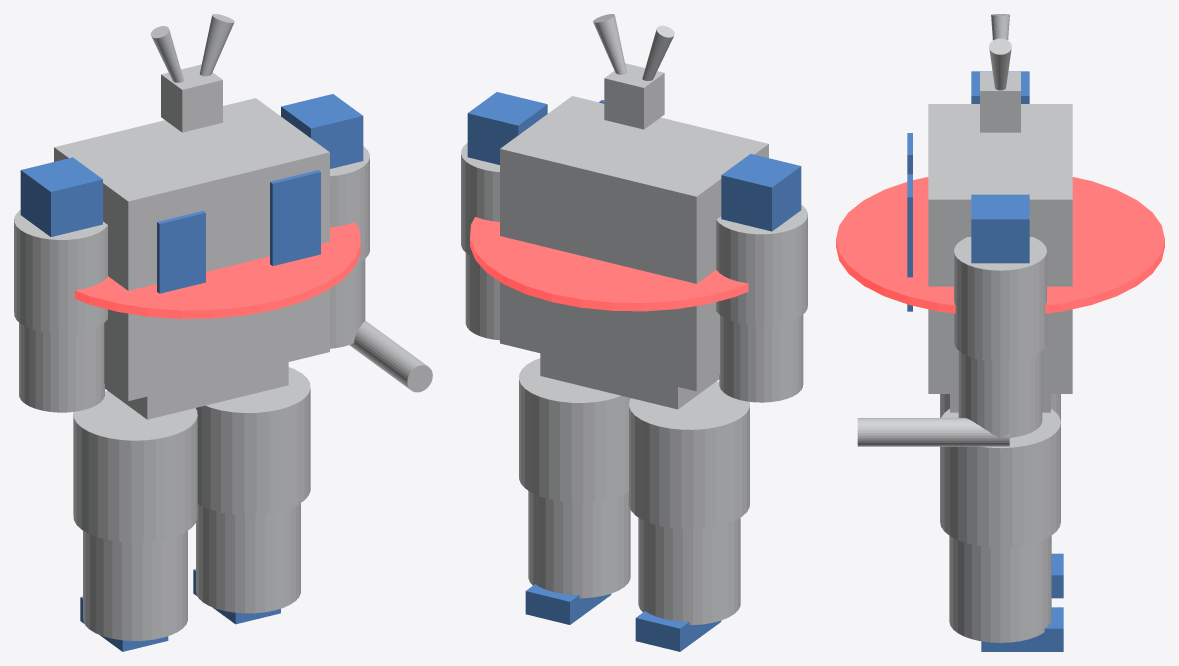
Rendered from traits1.glb.
3 renders of one model, left to right at view 1: azimuth 30°, elevation 25°; view 2: azimuth 150°, elevation 25°; view 3: azimuth 270°, elevation 25°, orthographic. The views are drawn at different scales.
Parts seen in each view (by area): view 1: GundarFrame_42_torso, GundarFrame_42_thigh_L, GundarFrame_42_thigh_R, GundarFrame_42_transam_aura, GundarFrame_42_shin_L, GundarFrame_42_shin_R, GundarFrame_42_upperarm_L, GundarFrame_42_forearm_L, GundarFrame_42, GundarFrame_42_shoulder_L, GundarFrame_42_pelvis, GundarFrame_42_shoulder_R (+6 smaller); view 2: GundarFrame_42_torso, GundarFrame_42_thigh_L, GundarFrame_42_thigh_R, GundarFrame_42_transam_aura, GundarFrame_42_shin_L, GundarFrame_42_shin_R, GundarFrame_42_upperarm_L, GundarFrame_42_forearm_L, GundarFrame_42_shoulder_L, GundarFrame_42_pelvis, GundarFrame_42_shoulder_R, GundarFrame_42_head (+6 smaller); view 3: GundarFrame_42_torso, GundarFrame_42_transam_aura, GundarFrame_42_thigh_R, GundarFrame_42_shin_R, GundarFrame_42_upperarm_R, GundarFrame_42_forearm_R, GundarFrame_42_shoulder_R, GundarFrame_42_weapon, GundarFrame_42_head, GundarFrame_42, GundarFrame_42_foot_R, GundarFrame_42_shoulder_L (+1 smaller).
Boxes of the visible parts, x1,y1,x2,y2 form: GundarFrame_42_torso: (54,98,329,401); GundarFrame_42_thigh_L: (73,391,197,542); GundarFrame_42_thigh_R: (196,367,310,515); GundarFrame_42_transam_aura: (75,222,360,318); GundarFrame_42_shin_L: (83,530,187,640); GundarFrame_42_shin_R: (196,503,300,613); GundarFrame_42_upperarm_L: (14,210,107,333); GundarFrame_42_forearm_L: (19,322,104,412); GundarFrame_42: (200,14,320,265); GundarFrame_42_shoulder_L: (20,157,102,236); GundarFrame_42_pelvis: (105,362,288,419); GundarFrame_42_shoulder_R: (281,94,363,168); GundarFrame_42_torso: (500,96,768,391); GundarFrame_42_thigh_L: (629,381,749,529); GundarFrame_42_thigh_R: (519,358,630,502); GundarFrame_42_transam_aura: (470,217,748,311); GundarFrame_42_shin_L: (638,517,740,625); GundarFrame_42_shin_R: (528,491,630,598); GundarFrame_42_upperarm_L: (716,205,807,325); GundarFrame_42_forearm_L: (719,315,803,402); GundarFrame_42_shoulder_L: (721,154,801,231); GundarFrame_42_pelvis: (540,353,719,409); GundarFrame_42_shoulder_R: (467,92,547,164); GundarFrame_42_head: (604,63,664,129); GundarFrame_42_torso: (928,104,1072,393); GundarFrame_42_transam_aura: (836,177,1164,313); GundarFrame_42_thigh_R: (940,409,1060,547); GundarFrame_42_shin_R: (949,536,1051,642); GundarFrame_42_upperarm_R: (954,237,1046,361); GundarFrame_42_forearm_R: (958,351,1042,438); GundarFrame_42_shoulder_R: (971,194,1029,263); GundarFrame_42_weapon: (857,418,1009,446); GundarFrame_42_head: (980,71,1020,132); GundarFrame_42: (907,38,1011,311); GundarFrame_42_foot_R: (981,607,1063,651); GundarFrame_42_shoulder_L: (971,71,1029,103).
Bounding box in the file's own units: 2.11 × 3.55 × 1.8.
